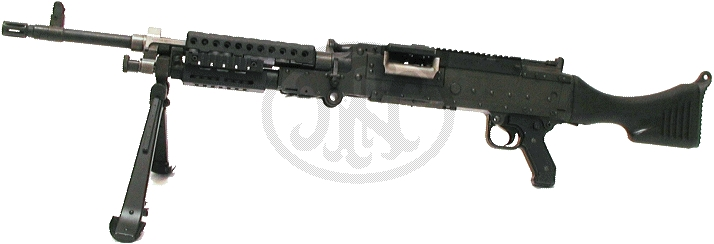rifle: (5, 10, 713, 232)
